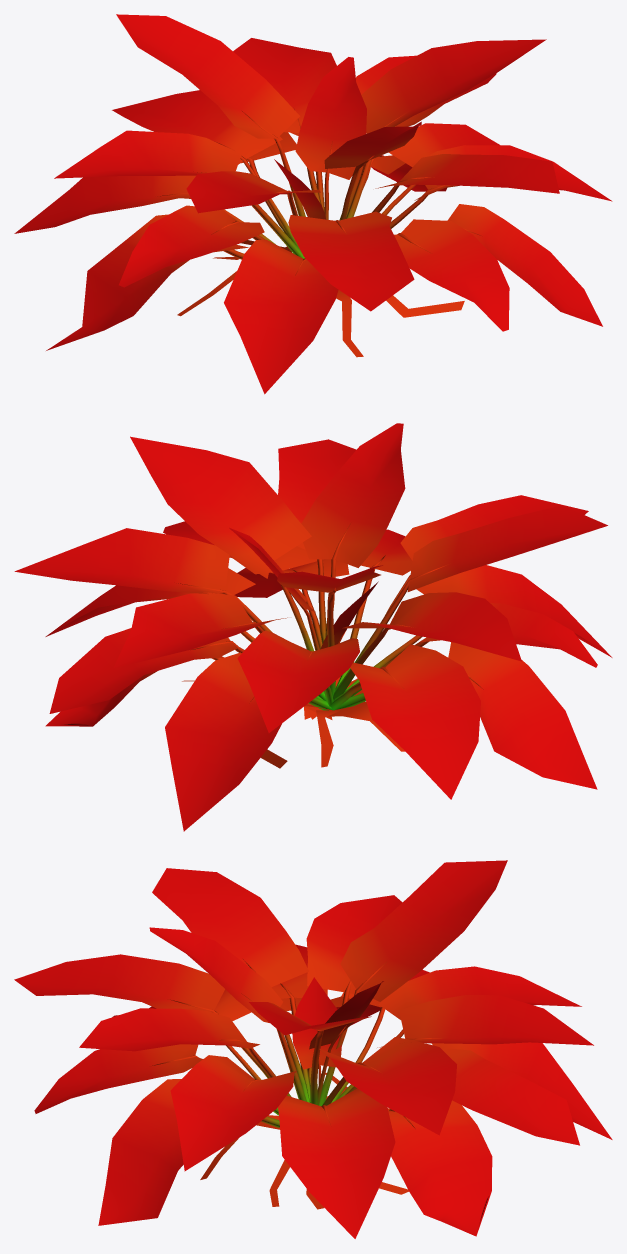
The model's file is Xanadu_LOD2_Var5_siroZ.fbx.
3 renders of one model, top to bottom at view 1: azimuth 30°, elevation 25°; view 2: azimuth 150°, elevation 25°; view 3: azimuth 270°, elevation 25°, orthographic. The views are drawn at different scales.
Parts seen in each view (by area): view 1: _2f6e_Var5_LOD2; view 2: _2f6e_Var5_LOD2; view 3: _2f6e_Var5_LOD2.
Part boxes in pixels (x1,y1,x2,y2): _2f6e_Var5_LOD2: [14, 14, 612, 394]; _2f6e_Var5_LOD2: [14, 423, 612, 831]; _2f6e_Var5_LOD2: [14, 860, 612, 1238].
Bounding box in the file's own units: 70.04 × 30.03 × 69.35.
